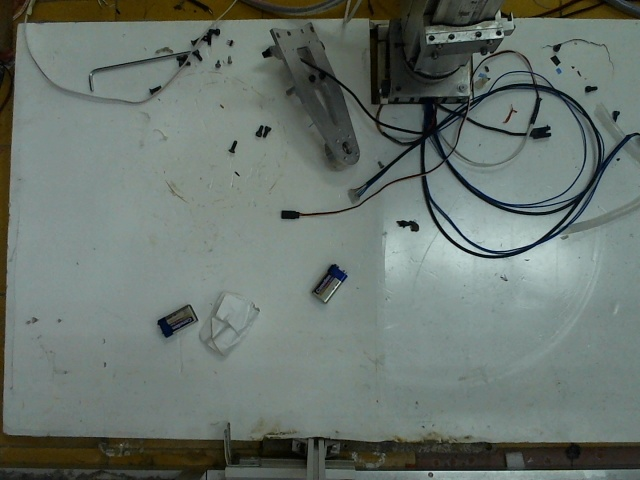battery: (153, 300, 200, 333), (310, 261, 346, 298)
